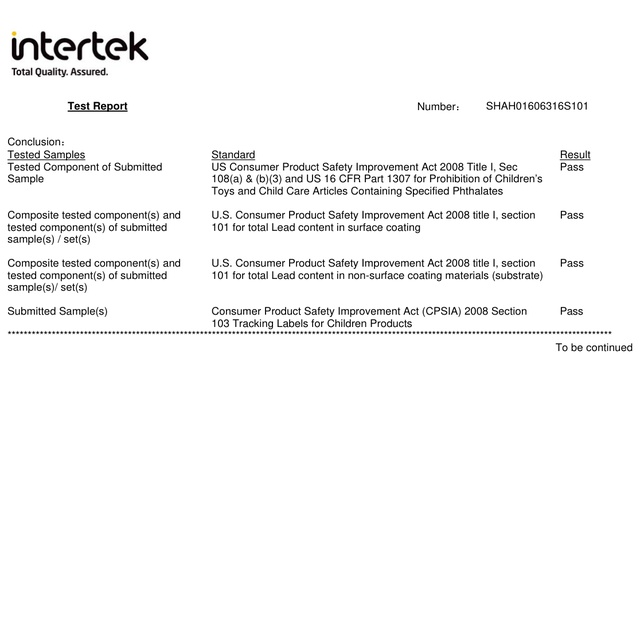intertek: (8, 28, 152, 65)
